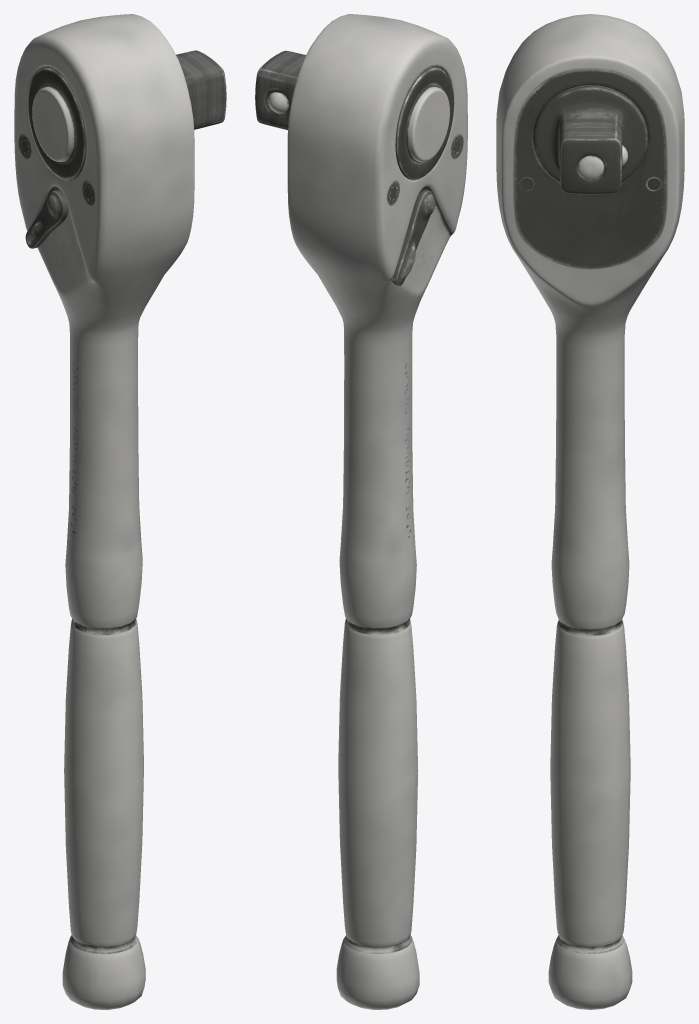
The model's file is ratchet_wrench.glb.
The picture shows the model from 3 angles, left to right: view 1: azimuth 30°, elevation 25°; view 2: azimuth 150°, elevation 25°; view 3: azimuth 270°, elevation 25°; orthographic projection.
Parts seen in each view (by area): view 1: body, head_left, head_right, handle; view 2: body, head_left, head_right, handle; view 3: body, head_left.
Part boxes in pixels (x1,y1,x2,y2): body: (14,14,194,1009); head_left: (176,50,226,129); head_right: (32,85,75,162); handle: (25,190,67,248); body: (287,14,467,1009); head_left: (255,50,305,130); head_right: (406,85,449,162); handle: (391,190,435,285); body: (496,14,684,1009); head_left: (533,85,648,194).
Size of the model in its own units: 0.0441 by 0.2462 by 0.0434.
1 material, 1 textured.
